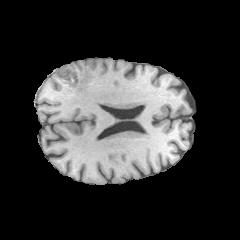glioma: (56, 65, 91, 96)
